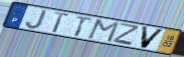J: (24, 9, 49, 30)
M: (86, 18, 122, 44)
T: (74, 15, 95, 38), (51, 11, 71, 35)
V: (140, 25, 167, 50)
Z: (112, 22, 142, 47)
